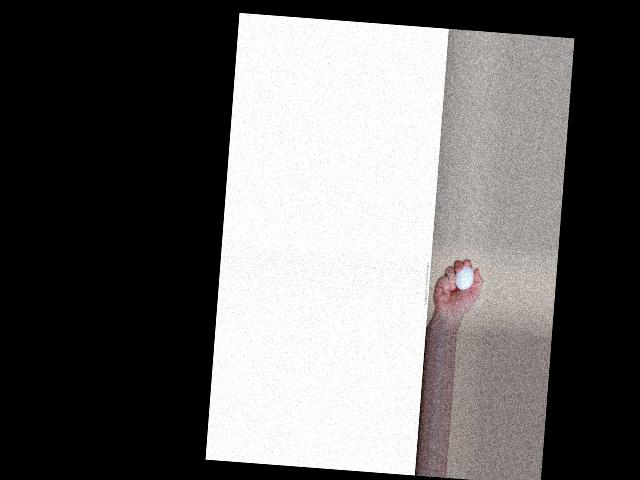egg: (454, 265, 474, 291)
